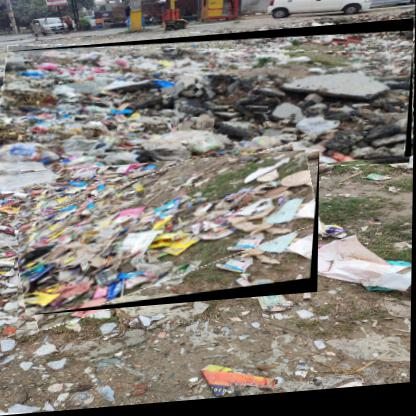Garbage: (1, 26, 415, 192), (19, 155, 322, 318)
